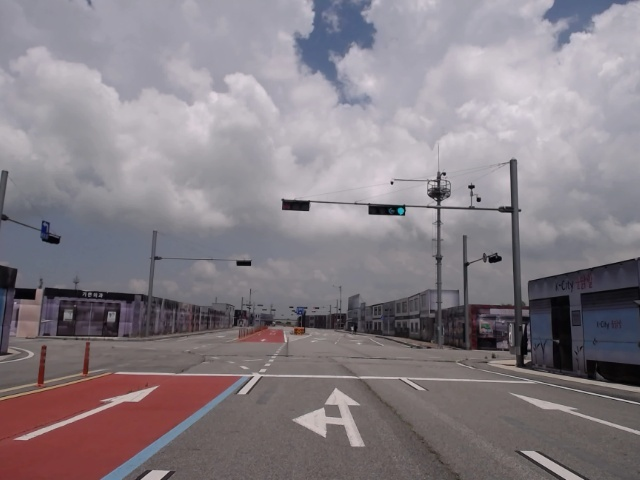all_green_4: (368, 204, 408, 215)
